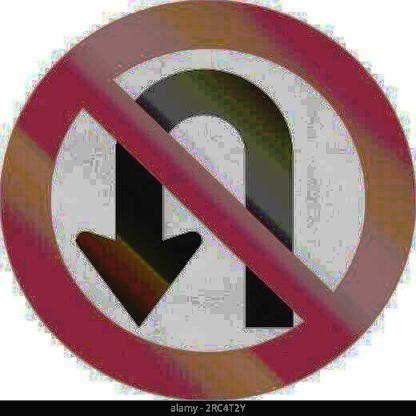No U-turn: (7, 3, 416, 398)
